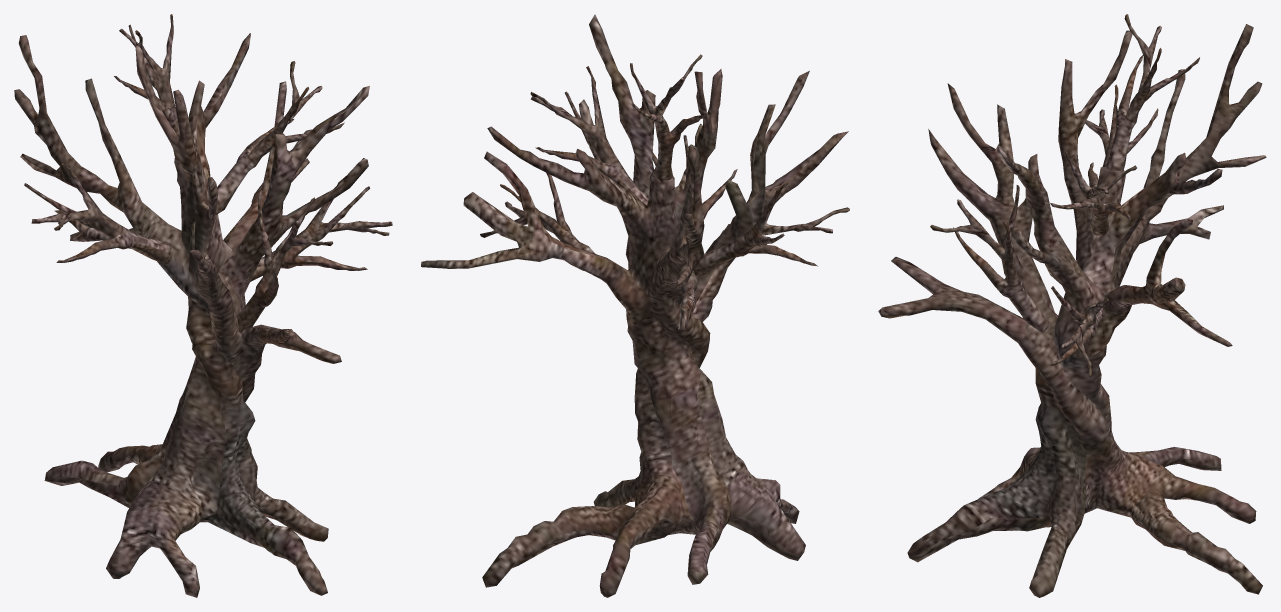
File: tree4.glb
3 views of the same model, side by side, from view 1: azimuth 30°, elevation 25°; view 2: azimuth 150°, elevation 25°; view 3: azimuth 270°, elevation 25° (orthographic). The views are drawn at different scales.
Parts seen in each view (by area): view 1: tree2; view 2: tree2; view 3: tree2.
Part boxes in pixels (<box>): tree2: <box>14,14,392,597</box>; tree2: <box>421,14,849,597</box>; tree2: <box>878,14,1266,597</box>.
Bounding box in the file's own units: 2.2 × 3.07 × 2.1.
1 material, 1 textured.
